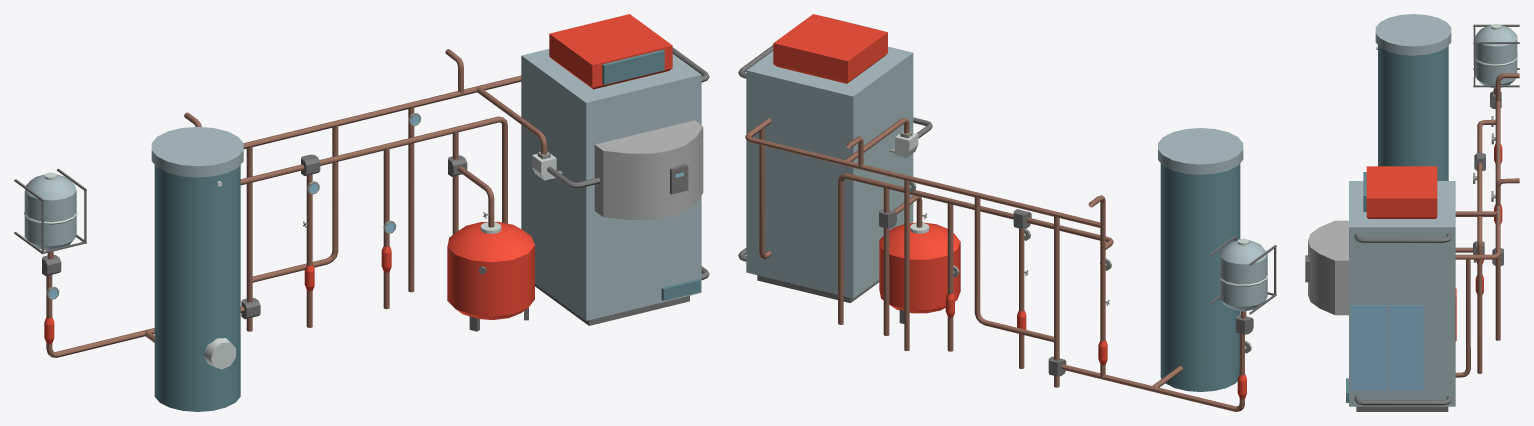
The model's file is SM_Boiler_01.fbx.
3 views of the same model, side by side, from view 1: azimuth 30°, elevation 25°; view 2: azimuth 150°, elevation 25°; view 3: azimuth 270°, elevation 25° (orthographic). The views are drawn at different scales.
Parts seen in each view (by area): view 1: SM_Boiler_01; view 2: SM_Boiler_01; view 3: SM_Boiler_01.
Part boxes in pixels (x1,y1,x2,y2): SM_Boiler_01: [14, 14, 709, 411]; SM_Boiler_01: [738, 14, 1276, 411]; SM_Boiler_01: [1305, 14, 1519, 411].
Size of the model in its own units: 512 by 212 by 193.
